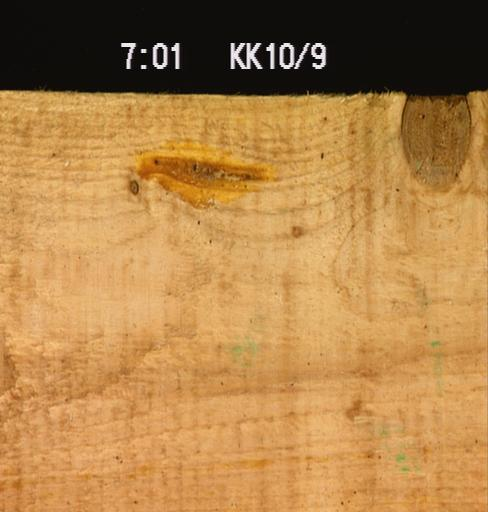edge_knot: (398, 91, 473, 192)
